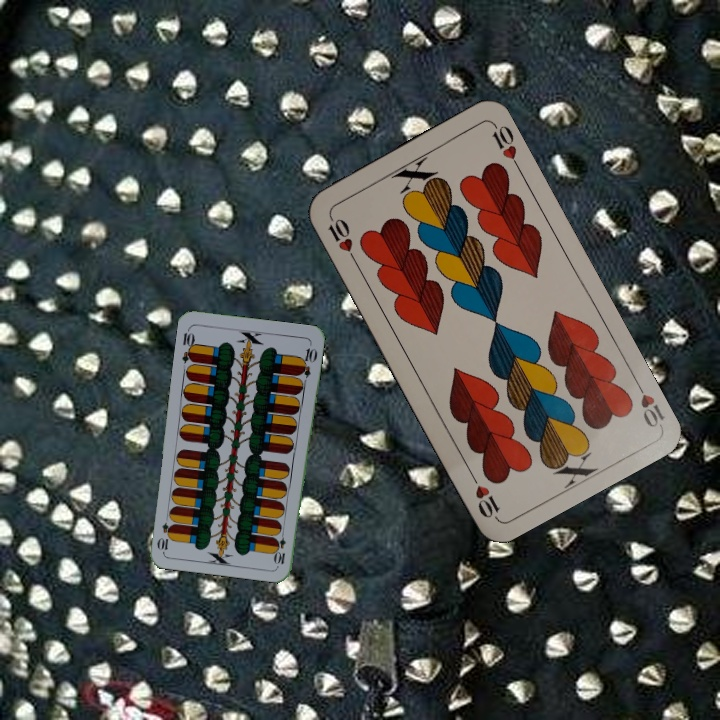E10: (178, 325, 198, 365), (272, 526, 288, 567)
H10: (630, 375, 667, 431), (323, 211, 360, 265)
